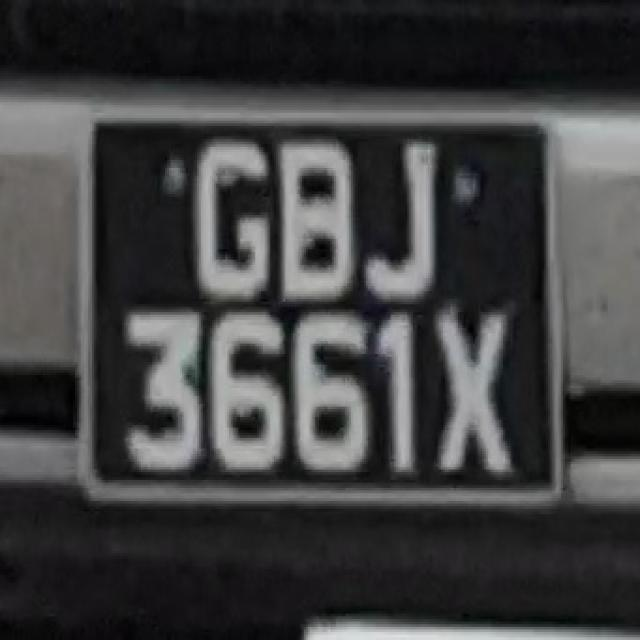1: (376, 299, 424, 491)
3: (116, 302, 206, 477)
6: (293, 302, 370, 490), (204, 304, 284, 480)
B: (272, 134, 360, 312)
G: (186, 131, 270, 312)
J: (360, 136, 447, 307)
X: (424, 299, 516, 483)
